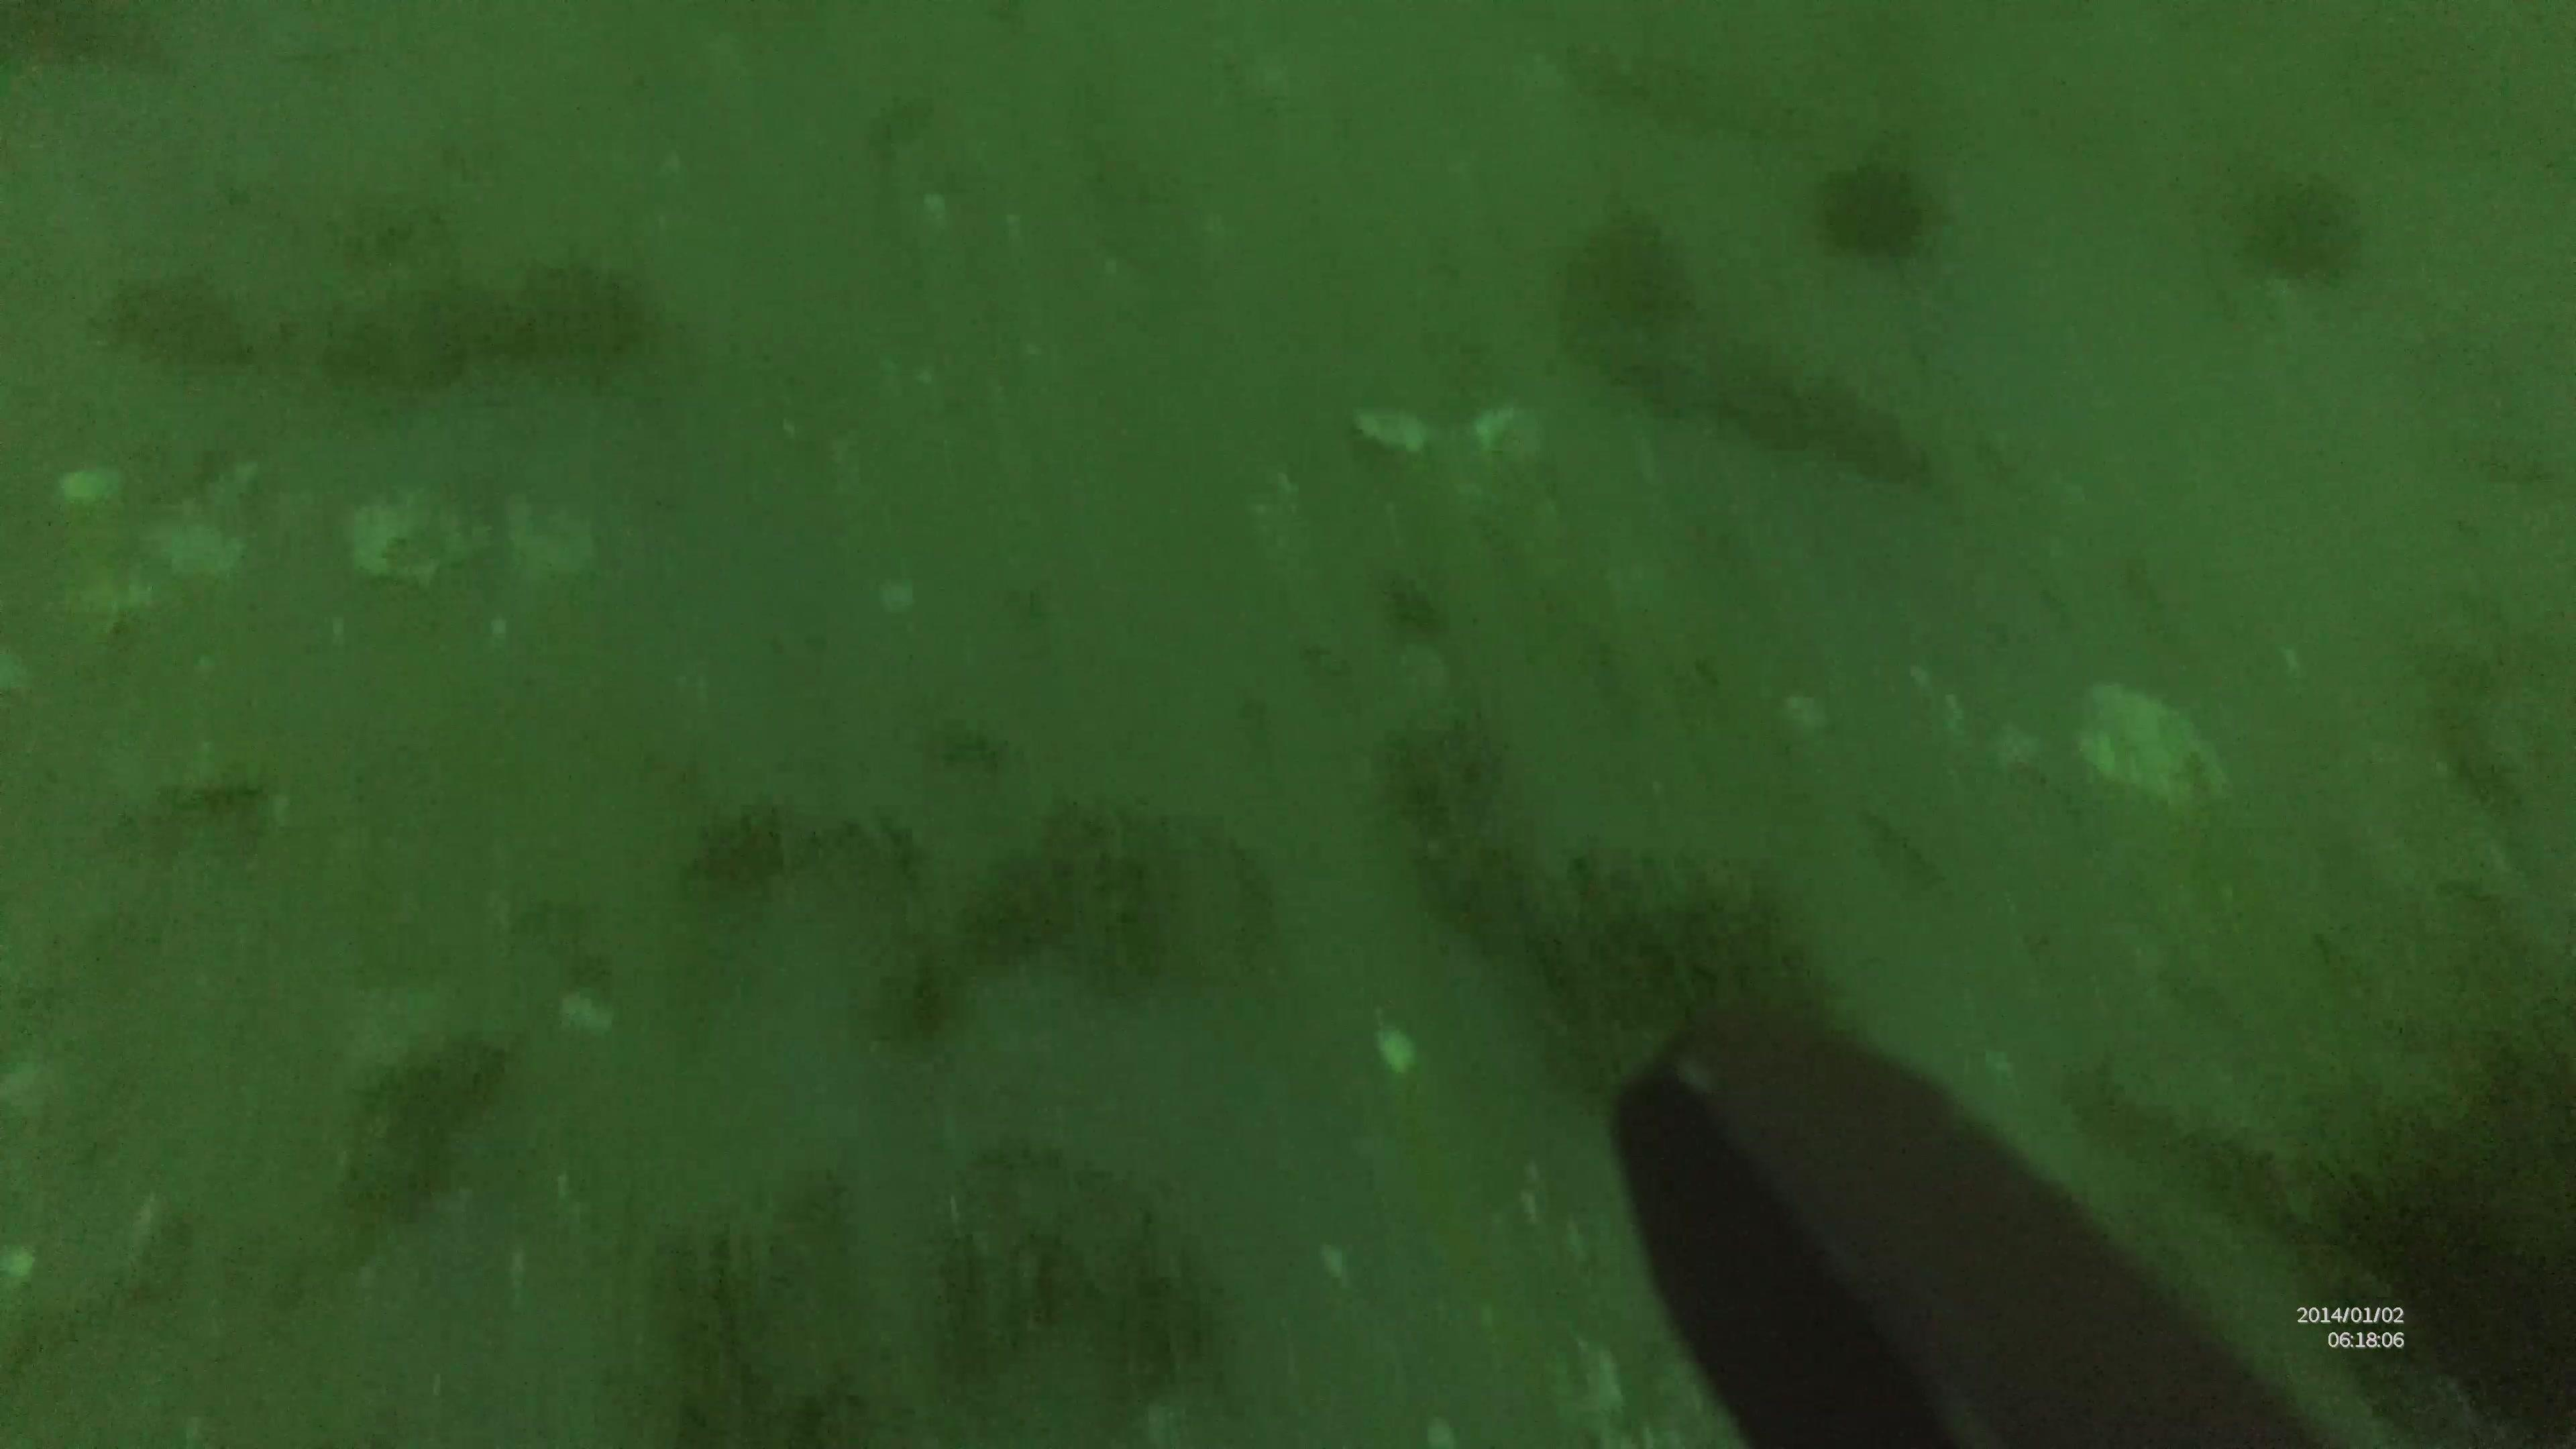holothurian: (1810, 147, 1932, 267)
